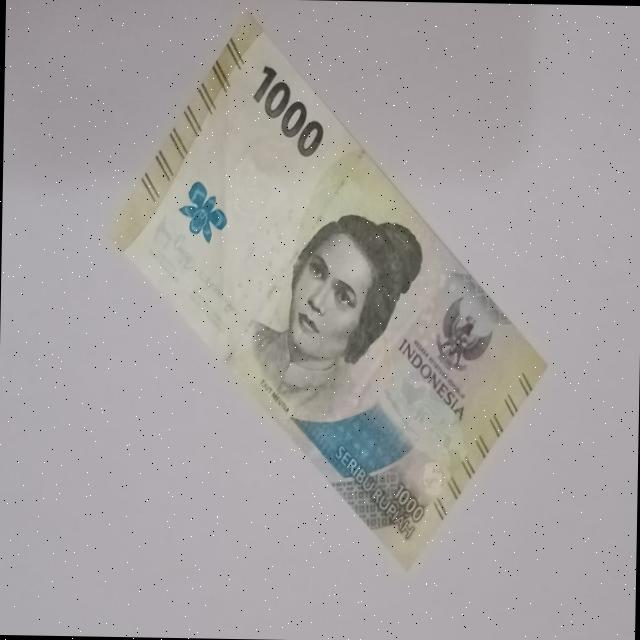1K: (107, 9, 574, 576)
